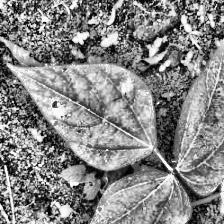ALS: (7, 63, 156, 171), (171, 62, 224, 192), (84, 175, 186, 224)
